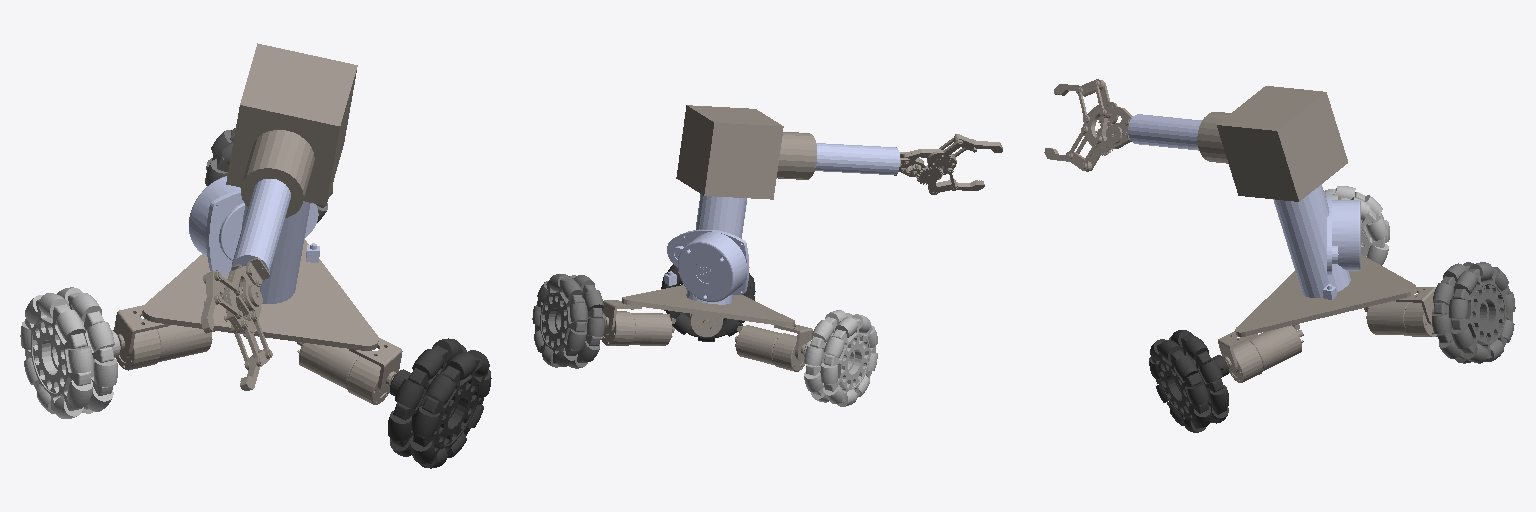
The robot description file, URDF, robot "giang":
<?xml version="1.0" encoding="utf-8"?>
<robot name="giang">
  <link name="base_link">
    <inertial>
      <origin xyz="0 0 0" rpy="0 0 0" />
      <mass value="4" /> 
      <inertia ixx="0.00190294205026824" ixy="-0.000114075013577605" ixz="-3.93773068625565E-05" iyy="0.00195033809154291" iyz="-0.000339835287344812" izz="0.00302612684815536" />
    </inertial>
    <visual>
      <origin xyz="0 0 0" rpy="0 0 0" />
      <geometry>
        <mesh filename="package://giang/meshes/base_link.STL" />
      </geometry>
      <material name="">
        <color rgba="0.650980392156863 0.619607843137255 0.588235294117647 1" />
      </material>
    </visual>
    <collision>
      <origin xyz="0 0 0" rpy="0 0 0" />
      <geometry>
        <mesh filename="package://giang/meshes/base_link.STL" />
      </geometry>
    </collision>
  </link>
  
  <link name="traicam">
    <inertial>
      <origin xyz="1.11127516957965E-06 0.00454255329124797 0.013285762321554" rpy="0 0 0" />
      <mass value="0.216553757587495" />
      <inertia ixx="4.5330321268905E-05" ixy="2.24020791294186E-09" ixz="1.23633240403192E-09" iyy="4.91826515535104E-05" iyz="1.12578799582933E-05" izz="7.82689182650466E-05" />
    </inertial>
    <visual>
      <origin xyz="0 0 0" rpy="0 0 0" />
      <geometry>
        <mesh filename="package://giang/meshes/traicam.STL" />
      </geometry>
      <material name="">
        <color rgba="0.294117647058824 0.294117647058824 0.294117647058824 1" />
      </material>
    </visual>
    <collision>
      <origin xyz="0 0 0" rpy="0 0 0" />
      <geometry>
        <mesh filename="package://giang/meshes/traicam.STL" />
      </geometry>
    </collision>
  </link>
  
  <joint name="j_traicam" type="continuous">
    <origin xyz="0.07224 -0.12222 -0.061203" rpy="-1.6753 -0.96906 -2.2668" />
    <parent link="base_link" />
    <child link="traicam" />
    <axis xyz="0 0.32332 0.94629" />
  </joint>
  
  <link name="phaicam">
    <inertial>
      <origin xyz="-2.85432592229268E-06 1.19242671126063E-06 -0.0297744682764462" rpy="0 0 0" />
      <mass value="0.2165537429782" />
      <inertia ixx="4.53336998537909E-05" ixy="-2.31768775303798E-09" ixz="-4.78882419731045E-09" iyy="4.53310330222237E-05" iyz="2.76844729913603E-09" izz="8.21171557673177E-05" />
    </inertial>
    <visual>
      <origin xyz="0 0 0" rpy="0 0 0" />
      <geometry>
        <mesh filename="package://giang/meshes/phaicam.STL" />
      </geometry>
      <material name="">
        <color rgba="0.501960784313725 0.501960784313725 0.501960784313725 1" />
      </material>
    </visual>
    <collision>
      <origin xyz="0 0 0" rpy="0 0 0" />
      <geometry>
        <mesh filename="package://giang/meshes/phaicam.STL" />
      </geometry>
    </collision>
  </link>
  
  <joint name="j_phaicam" type="continuous">
    <origin xyz="0.10376 0.1673 0.020053" rpy="-0.79655 -1.2374 -1.324" />
    <parent link="base_link" />
    <child link="phaicam" />
    <axis xyz="0 0 1" />
  </joint>
  
  <link name="saucam">
    <inertial>
      <origin xyz="9.02574320837957E-10 3.2498472427589E-06 0.0768266214061987" rpy="0 0 0" />
      <mass value="0.216553751062434" />
      <inertia ixx="4.53296981278038E-05" ixy="1.37634899950636E-12" ixz="3.56525606834499E-12" iyy="4.53350436706611E-05" iyz="5.53193597537422E-09" izz="8.21171642070257E-05" />
    </inertial>
    <visual>
      <origin xyz="0 0 0" rpy="0 0 0" />
      <geometry>
        <mesh filename="package://giang/meshes/saucam.STL" />
      </geometry>
      <material name="">
        <color rgba="0.752941176470588 0.752941176470588 0.752941176470588 1" />
      </material>
    </visual>
    <collision>
      <origin xyz="0 0 0" rpy="0 0 0" />
      <geometry>
        <mesh filename="package://giang/meshes/saucam.STL" />
      </geometry>
    </collision>
  </link>
  
  <joint name="j_saucam" type="continuous">
    <origin xyz="-0.089592 0.0095916 -0.024209" rpy="-1.5614 -0.55681 1.5374" />
    <parent link="base_link" />
    <child link="saucam" />
    <axis xyz="0 0 1" />
  </joint>
  
  <link name="cam">
    <inertial>
      <origin xyz="-0.00549159067882473 0.000142782093136729 0.00542399688213652" rpy="0 0 0" />
      <mass value="0.00106909376084806" />
      <inertia ixx="1.96245738762131E-08" ixy="-6.82424005356248E-24" ixz="-8.32350491381484E-24" iyy="1.96245738762131E-08" iyz="-3.01920923581855E-23" izz="1.6906568016913E-08" />
    </inertial>
    <visual>
      <origin xyz="0 0 0" rpy="0 0 0" />
      <geometry>
        <mesh filename="package://giang/meshes/cam.STL" />
      </geometry>
      <material name="">
        <color rgba="0.792156862745098 0.819607843137255 0.933333333333333 1" />
      </material>
    </visual>
    <collision>
      <origin xyz="0 0 0" rpy="0 0 0" />
      <geometry>
        <mesh filename="package://giang/meshes/cam.STL" />
      </geometry>
    </collision>
  </link>
  
 <joint name="j_cam" type="fixed">
  <origin xyz="0.05 0 0.01" rpy="0 0.0873 -0.5236" />
  <parent link="base_link" />
  <child link="cam" />
  <axis xyz="0 0 0" />
</joint>
  <link name="lidar">
    <inertial>
      <origin xyz="0 0 0" rpy="0 0 0" /> <!-- Đặt origin về 0 để căn chỉnh -->
      <mass value="0.5" /> <!-- Giữ nguyên như ban đầu -->
      <inertia ixx="0.000449679095584544" ixy="2.81363257557769E-05" ixz="-1.24593204258014E-08" iyy="0.000772785451493485" iyz="8.98983080473076E-08" izz="0.000555359086215568" />
    </inertial>
    <visual>
      <origin xyz="0 0 0" rpy="0 0 0" />
      <geometry>
        <mesh filename="package://giang/meshes/lidar.STL" />
      </geometry>
      <material name="">
        <color rgba="0.792156862745098 0.819607843137255 0.933333333333333 1" />
      </material>
    </visual>
    <collision>
      <origin xyz="0 0 0" rpy="0 0 0" />
      <geometry>
        <mesh filename="package://giang/meshes/lidar.STL" />
      </geometry>
    </collision>
  </link>
  
  <joint name="j_lidar" type="fixed">
    <origin xyz="0 0 0.05" rpy="0 0 0" /> <!-- Đặt ở giữa base_link, nâng lên 0.05m để quét ngang -->
    <parent link="base_link" />
    <child link="lidar" />
    <axis xyz="0 0 0" />
  </joint>
  
  <link name="tt1">
    <inertial>
      <origin xyz="5.55111512312578E-16 -1.41553435639707E-15 0.0817027065570053" rpy="0 0 0" />
      <mass value="0.273318560862312" />
      <inertia ixx="0.0005132055655918" ixy="-2.71050543121376E-20" ixz="-4.36221967835965E-20" iyy="0.000513205565591801" iyz="2.05829006182795E-19" izz="8.96532003518189E-05" />
    </inertial>
    <visual>
      <origin xyz="0 0 0" rpy="0 0 0" />
      <geometry>
        <mesh filename="package://giang/meshes/tt1.STL" />
      </geometry>
      <material name="">
        <color rgba="0.792156862745098 0.819607843137255 0.933333333333333 1" />
      </material>
    </visual>
    <collision>
      <origin xyz="0 0 0" rpy="0 0 0" />
      <geometry>
        <mesh filename="package://giang/meshes/tt1.STL" />
      </geometry>
    </collision>
  </link>
  
  <joint name="j_tt1" type="prismatic">
    <origin xyz="0 6.0234E-05 -0.00021462" rpy="-0.27361 0.0020889 -3.1341" />
    <parent link="base_link" />
    <child link="tt1" />
    <axis xyz="0 0 1" />
    <limit lower="0" upper="0" effort="0" velocity="0" />
  </joint>
  
  <link name="tt2">
    <inertial>
      <origin xyz="5.55111512312578E-17 2.22044604925031E-16 -0.0558509099130727" rpy="0 0 0" />
      <mass value="0.0706858347057703" />
      <inertia ixx="6.28809404570082E-05" ixy="3.17637355220363E-22" ixz="-3.61047793767146E-20" iyy="6.28809404570082E-05" iyz="1.75282880522437E-19" izz="7.95215640439916E-06" />
    </inertial>
    <visual>
      <origin xyz="0 0 0" rpy="0 0 0" />
      <geometry>
        <mesh filename="package://giang/meshes/tt2.STL" />
      </geometry>
      <material name="">
        <color rgba="0.792156862745098 0.819607843137255 0.933333333333333 1" />
      </material>
    </visual>
    <collision>
      <origin xyz="0 0 0" rpy="0 0 0" />
      <geometry>
        <mesh filename="package://giang/meshes/tt2.STL" />
      </geometry>
    </collision>
  </link>
  
  <joint name="j_tt2" type="prismatic">
    <origin xyz="-0.0529676319958768 -0.106682839638125 0.138135732675067" rpy="-1.35924840820937 0.00504628222108553 -0.698372509057435" />
    <parent link="base_link" />
    <child link="tt2" />
    <axis xyz="0 0 1" />
    <limit lower="0" upper="0" effort="0" velocity="0" />
  </joint>

  <!-- Gazebo cho camera -->
  <gazebo reference="cam">
    <sensor type="camera" name="camera1">
      <update_rate>30.0</update_rate>
      <camera name="head">
        <horizontal_fov>1.3962634</horizontal_fov>
        <image>
          <width>800</width>
          <height>800</height>
          <format>R8G8B8</format>
        </image>
        <clip>
          <near>0.02</near>
          <far>300</far>
        </clip>
        <noise>
          <type>gaussian</type>
          <mean>0.0</mean>
          <stddev>0.007</stddev>
        </noise>
      </camera>
      <plugin name="camera_controller" filename="libgazebo_ros_camera.so">
        <alwaysOn>true</alwaysOn>
        <updateRate>30.0</updateRate>
        <cameraName>/giang/camera1</cameraName>
        <imageTopicName>/giang/image_raw</imageTopicName>
        <cameraInfoTopicName>/giang/camera_info</cameraInfoTopicName>
        <frameName>cam</frameName>
      </plugin>
    </sensor>
  </gazebo>

  <!-- Gazebo cho LiDAR (quét 360 độ phương ngang) -->
  <gazebo reference="lidar">
    <sensor type="ray" name="lidar_sensor">
      <pose>0 0 0 0 0 0</pose>
      <visualize>true</visualize>
      <update_rate>30</update_rate>
      <ray>
        <scan>
          <horizontal>
            <samples>720</samples>
            <resolution>1</resolution>
            <min_angle>-3.1416</min_angle>
            <max_angle>3.1416</max_angle>
          </horizontal>
        </scan>
        <range>
          <min>0.1</min>
          <max>30.0</max>
          <resolution>0.01</resolution>
        </range>
        <noise>
          <type>gaussian</type>
          <mean>0.0</mean>
          <stddev>0.01</stddev>
        </noise>
      </ray>
      <plugin name="gazebo_ros_laser" filename="libgazebo_ros_laser.so">
        <topicName>/giang/scan</topicName>
        <frameName>lidar</frameName>
      </plugin>
    </sensor>
  </gazebo>
</robot>

--- What the picture shows (computed from the rendered views, not written in the file) ---
Views: 3 orthographic renders of the robot side by side, from view 1: azimuth 30°, elevation 25°; view 2: azimuth 150°, elevation 25°; view 3: azimuth 270°, elevation 25°.
Model giang with 8 links and 7 joints (3 continuous, 2 prismatic, 2 fixed), rooted at base_link, posed all joints at 0.
Links seen in each view (by area): view 1: base_link, saucam, traicam, lidar, tt2, tt1, phaicam; view 2: base_link, phaicam, saucam, lidar, tt2, tt1, traicam; view 3: base_link, phaicam, traicam, tt1, lidar, tt2, saucam.
Boxes of the visible links, x1,y1,x2,y2 form: base_link: (113,43,402,404); saucam: (20,287,120,418); traicam: (388,338,491,468); lidar: (189,176,318,274); tt2: (231,179,290,282); tt1: (239,201,310,303); phaicam: (205,128,333,222); base_link: (601,105,1002,371); phaicam: (532,274,605,368); saucam: (804,310,877,406); lidar: (667,229,749,301); tt2: (815,143,899,174); tt1: (686,194,746,304); traicam: (661,264,755,341); base_link: (1044,79,1436,382); phaicam: (1432,262,1515,363); traicam: (1149,330,1228,432); tt1: (1273,184,1350,297); lidar: (1327,194,1360,274); tt2: (1128,114,1201,150); saucam: (1324,186,1389,265).
Bounding box of the posed robot: 0.3455 × 0.4635 × 0.3253 m (x, y, z).
Meshes: 8 distinct files referenced, 8 mesh visuals loaded (8 binary STL).
